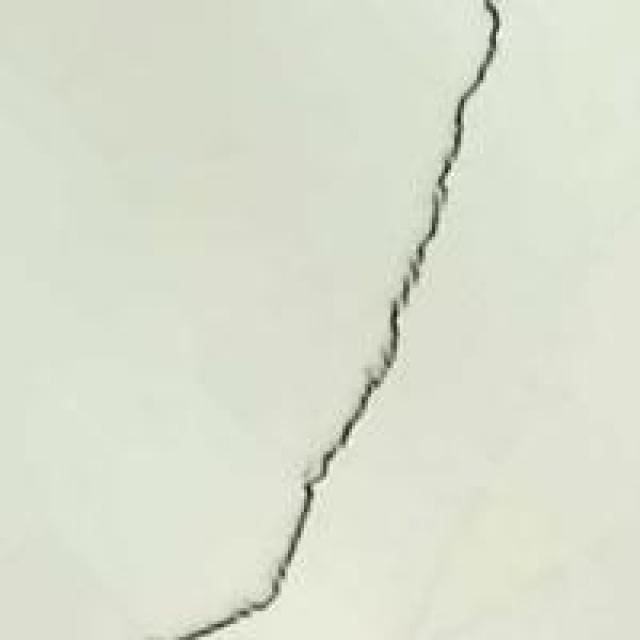Crack: (173, 0, 503, 637)
